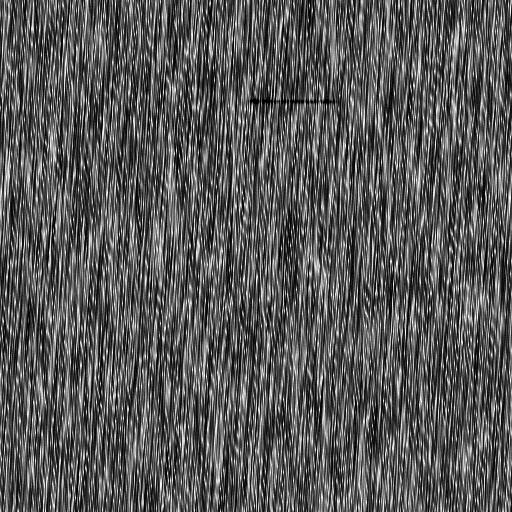DefectTypeC: (249, 97, 338, 109)
